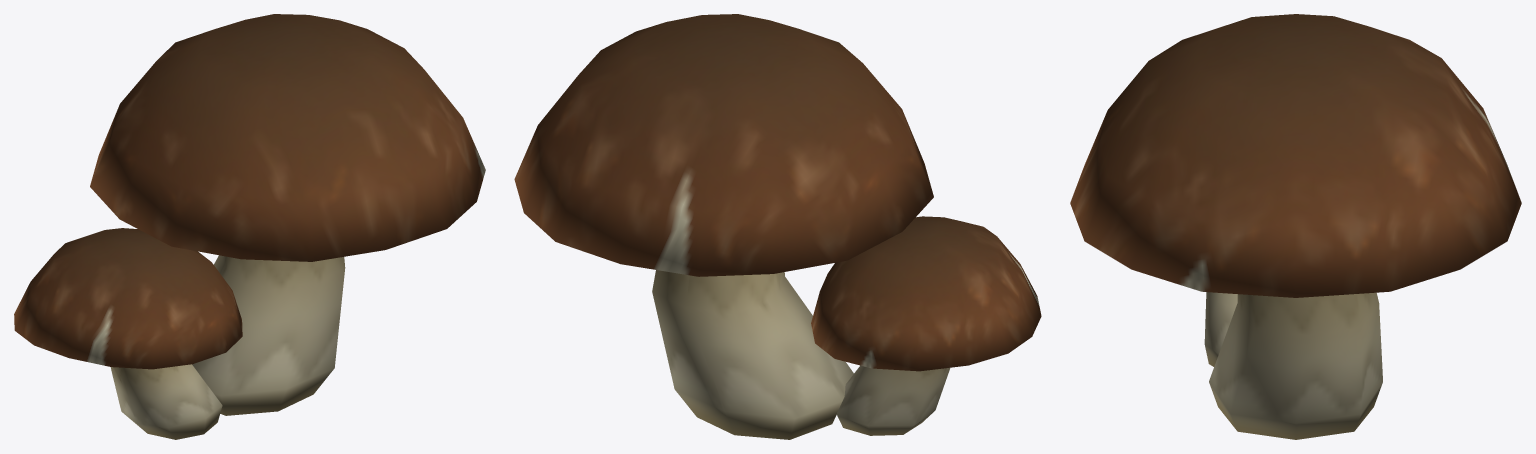
The model's file is sb_obj_nature005_mushroom03.fbx.
3 renders of one model, left to right at view 1: azimuth 30°, elevation 25°; view 2: azimuth 150°, elevation 25°; view 3: azimuth 270°, elevation 25°, orthographic. The views are drawn at different scales.
Visible parts, largest first — view 1: sb_obj_nature005_mushroom03; view 2: sb_obj_nature005_mushroom03; view 3: sb_obj_nature005_mushroom03.
Boxes of the visible parts, <box> form: sb_obj_nature005_mushroom03: <box>14,14,485,439</box>; sb_obj_nature005_mushroom03: <box>514,14,1041,439</box>; sb_obj_nature005_mushroom03: <box>1070,14,1521,439</box>.
Bounding box in the file's own units: 0.4441 × 0.33 × 0.3419.
